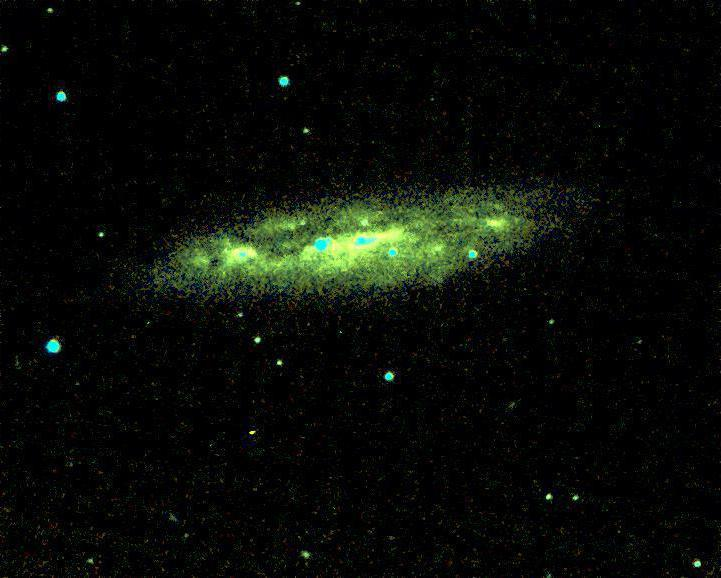star: (238, 417, 268, 447)
